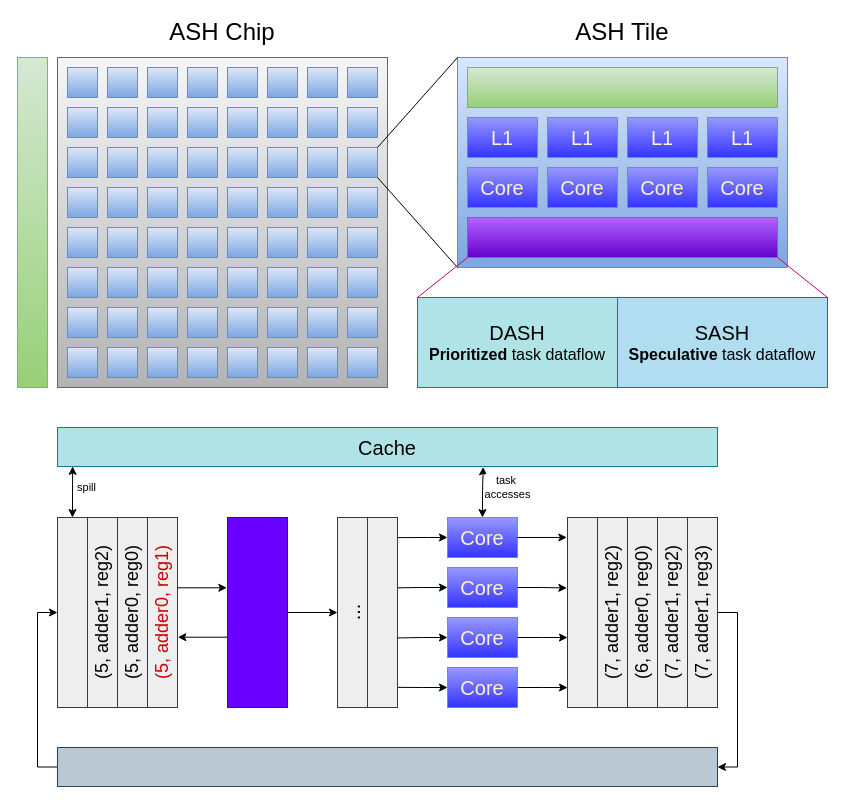
Some shapes in this 846 by 804 pixel diagram are drawn without their labels. Here are the shapes that lost their labels. From the top down, the centre of each, then its label:
[622,87]: L2 Cache (tile-private)
[32,222]: Memory
[622,237]: Task Management Unit
[72,612]: (5, adder1, reg3)
[257,612]: MERGE
[382,612]: (5, adder0, reg0,reg1)
[582,612]: (6, adderOut, wire0)
[387,766]: Inter-Tile Network
